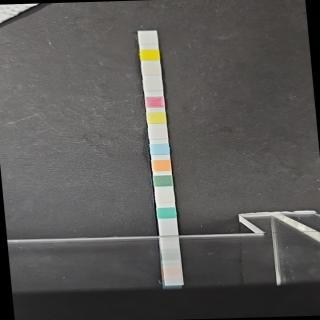mark: (139, 31, 157, 44), (152, 159, 170, 171), (144, 78, 162, 90), (140, 48, 158, 60), (156, 190, 173, 202), (151, 143, 168, 155), (148, 112, 165, 124), (154, 175, 172, 186), (147, 96, 163, 108), (144, 64, 160, 76), (150, 128, 167, 139), (158, 208, 176, 218)
